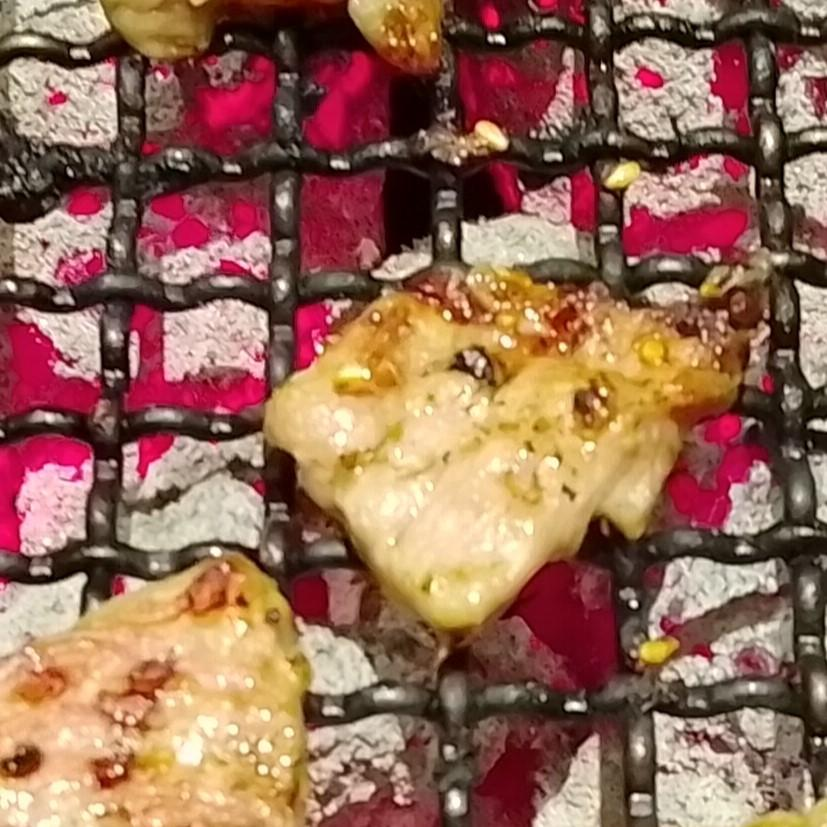Well-Cooked: (265, 269, 754, 637), (0, 555, 312, 826)
